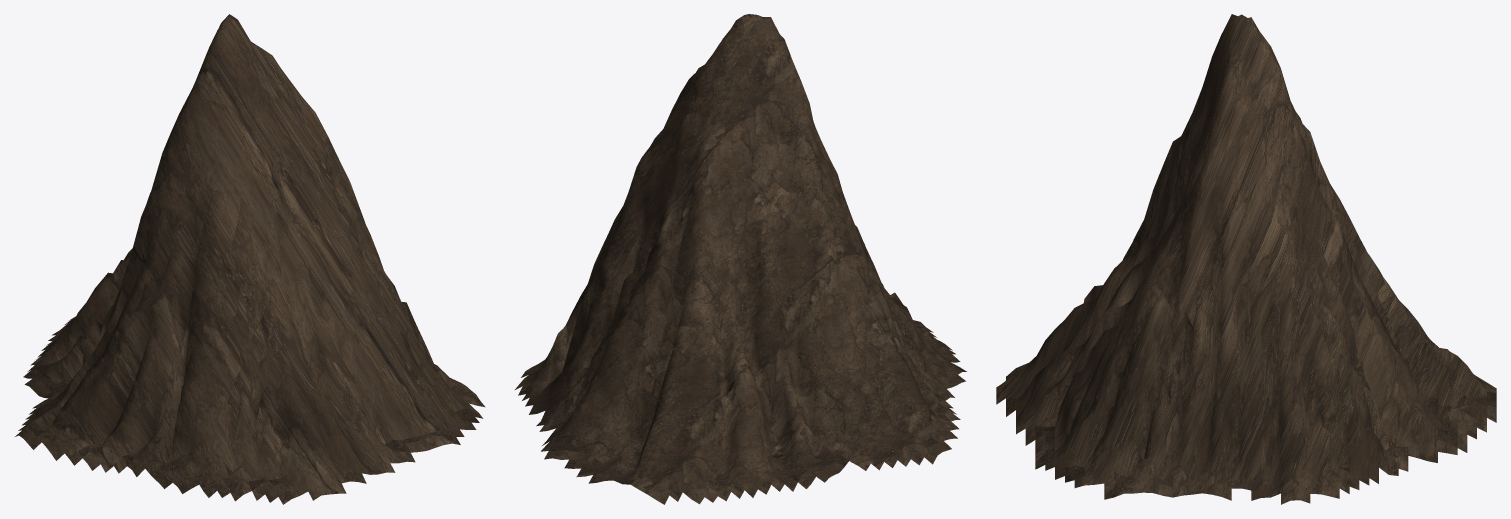
Rendered from border_peak_a_v5_dead.glb.
The picture shows the model from 3 angles, left to right: view 1: azimuth 30°, elevation 25°; view 2: azimuth 150°, elevation 25°; view 3: azimuth 270°, elevation 25°; orthographic projection.
Parts seen in each view (by area): view 1: border_peak_a; view 2: border_peak_a; view 3: border_peak_a.
Boxes of the visible parts, x1,y1,x2,y2 form: border_peak_a: (15,14,485,504); border_peak_a: (515,14,966,504); border_peak_a: (996,14,1496,504).
Size of the model in its own units: 0.94 by 0.8827 by 1.02.
2 materials, 2 textured.
